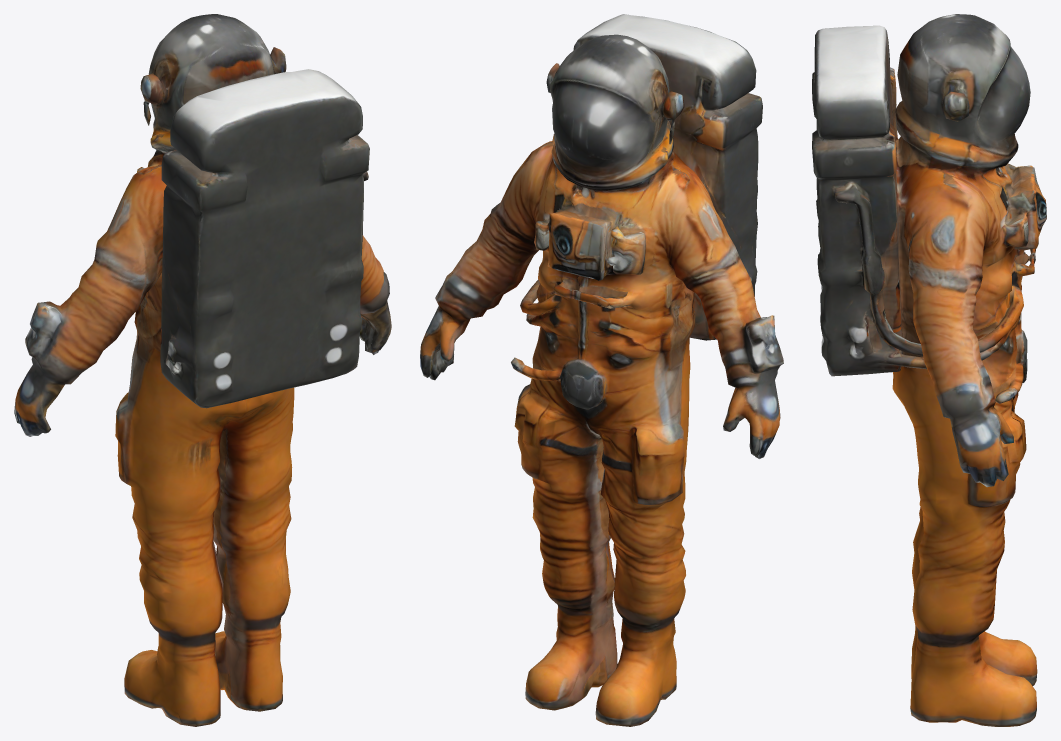
File: Astronaut orange.glb
3 views of the same model, side by side, from view 1: azimuth 30°, elevation 25°; view 2: azimuth 150°, elevation 25°; view 3: azimuth 270°, elevation 25° (orthographic). The views are drawn at different scales.
Visible parts, largest first — view 1: Mesh_0.001; view 2: Mesh_0.001; view 3: Mesh_0.001.
Boxes of the visible parts, x1,y1,x2,y2 form: Mesh_0.001: [14, 14, 391, 726]; Mesh_0.001: [420, 14, 783, 726]; Mesh_0.001: [812, 14, 1046, 726].
Size of the model in its own units: 1.12 by 2 by 0.6273.
1 material, 1 textured.
